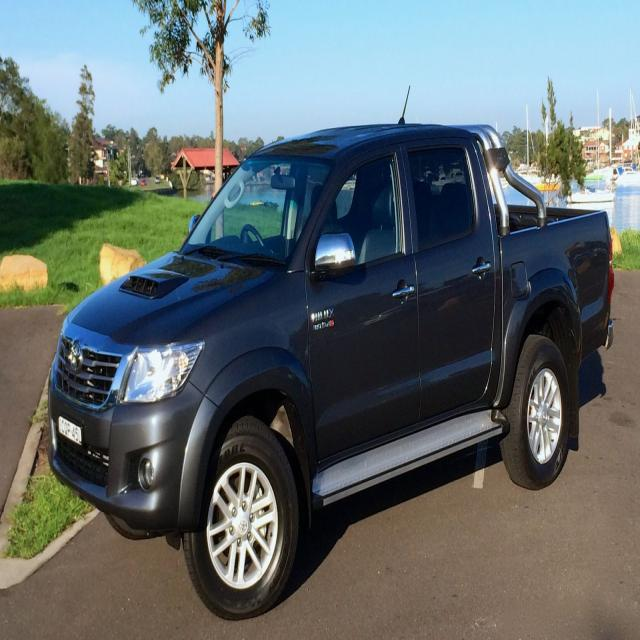light_vehicle: (42, 102, 618, 620)
